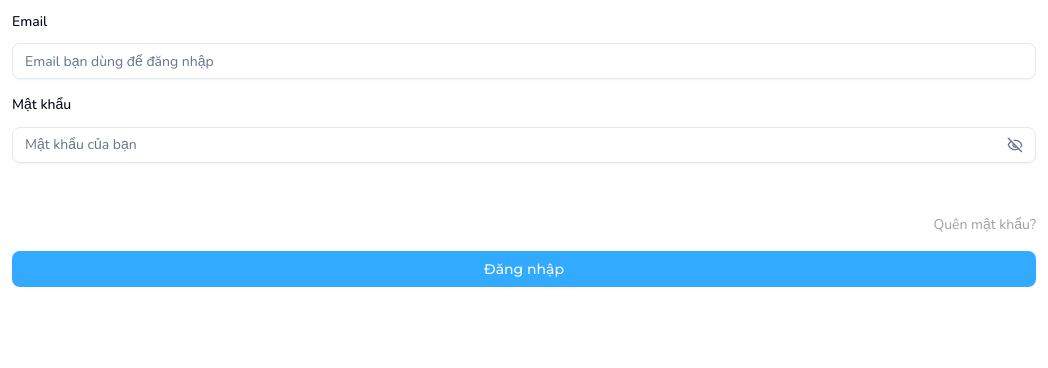
Test case: FormLogin › shows validation errors when submitting empty form
This screenshot has width=1048, height=368.
Step 1. Click the button "Đăng nhập" → (524, 268), box 12,250 -> 1036,286
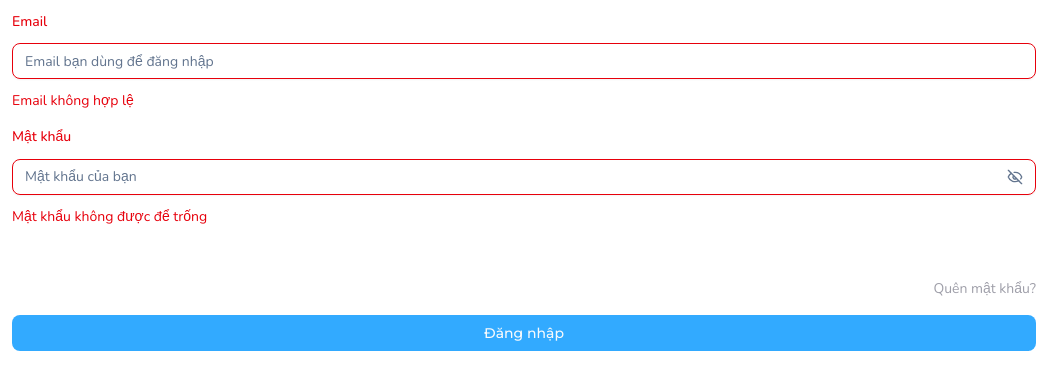
Check: the text "Email không hợp lệ" is shown, box 12,91 -> 134,110
Check: the text "Mật khẩu không được để trống" is shown, box 12,206 -> 207,226
